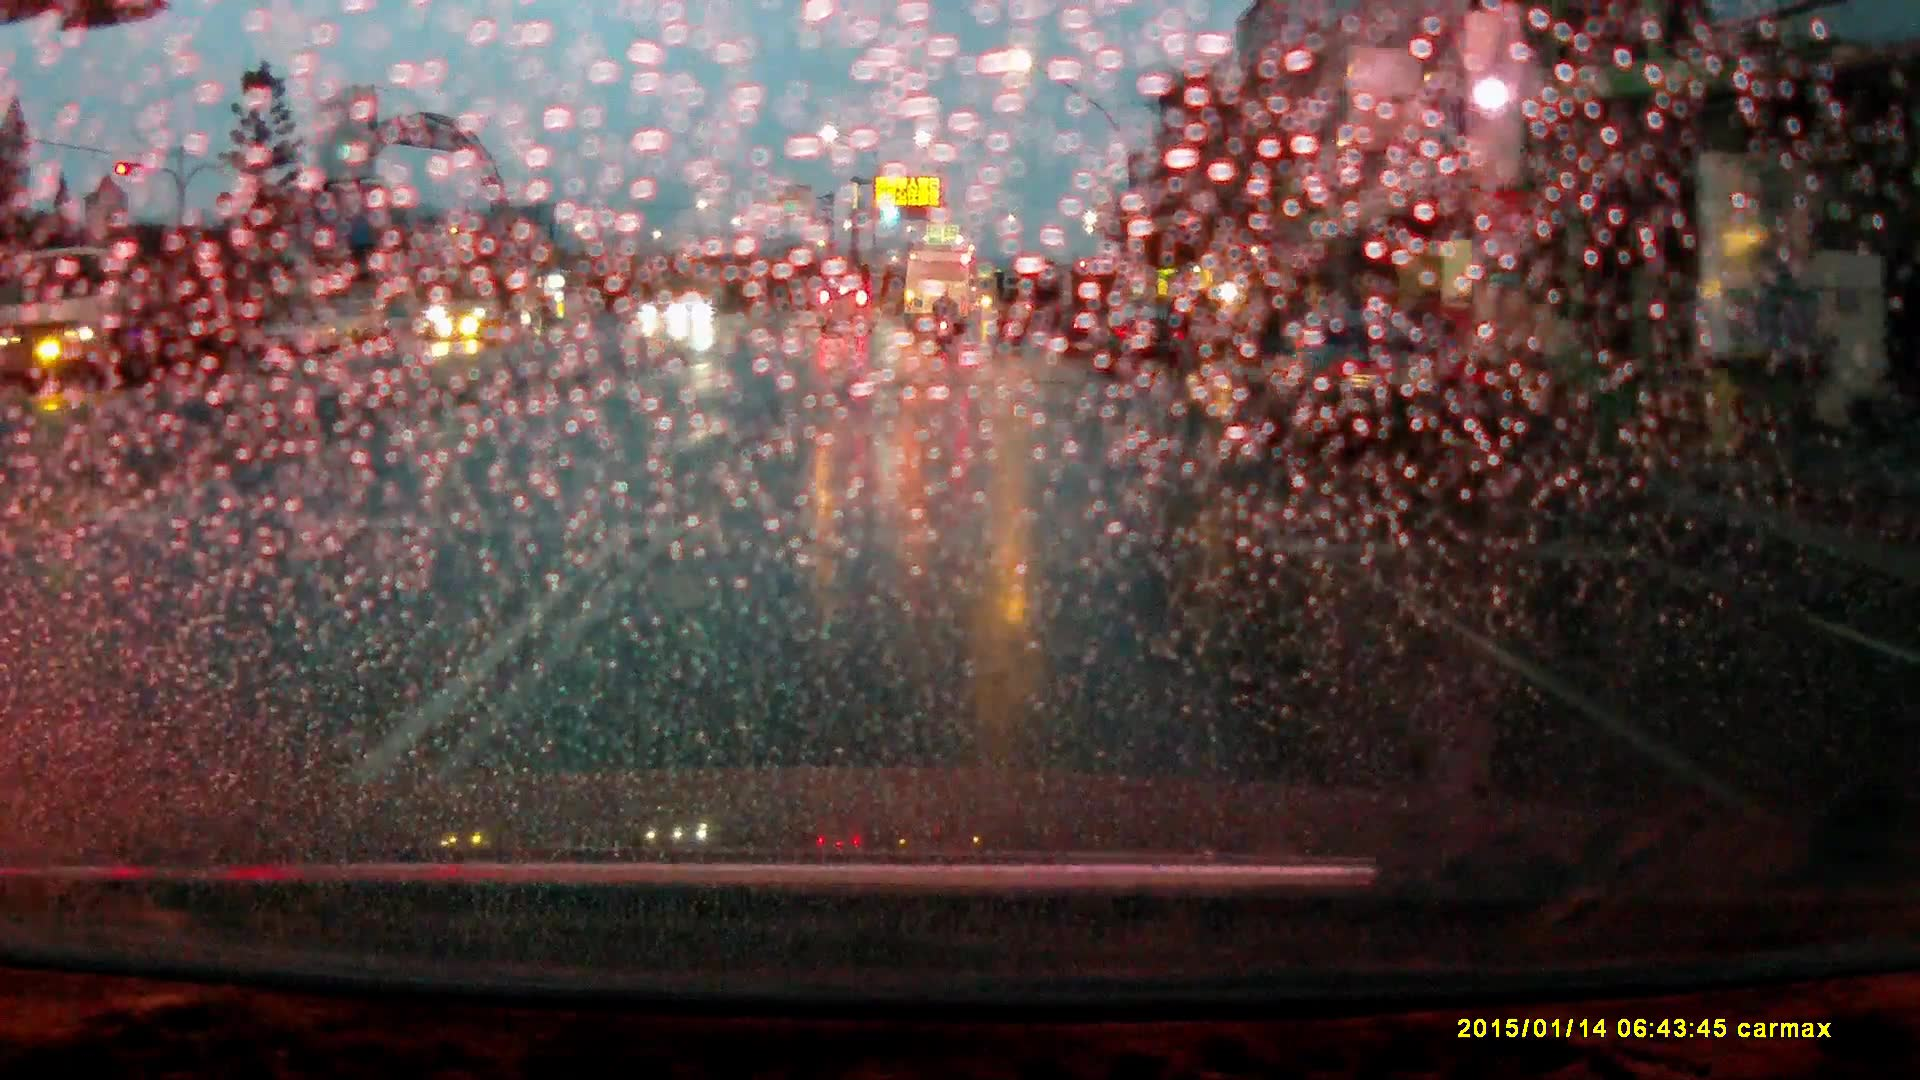rider: (932, 288, 958, 351)
vehicle: (2, 242, 239, 395), (1264, 314, 1490, 465), (428, 265, 550, 341), (1096, 307, 1188, 379), (905, 249, 974, 335), (816, 286, 878, 336), (666, 293, 715, 325)
